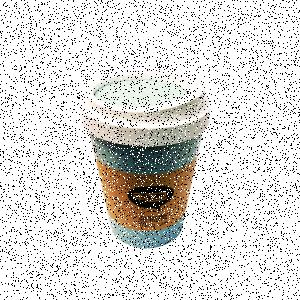Cup: (81, 71, 212, 251)
